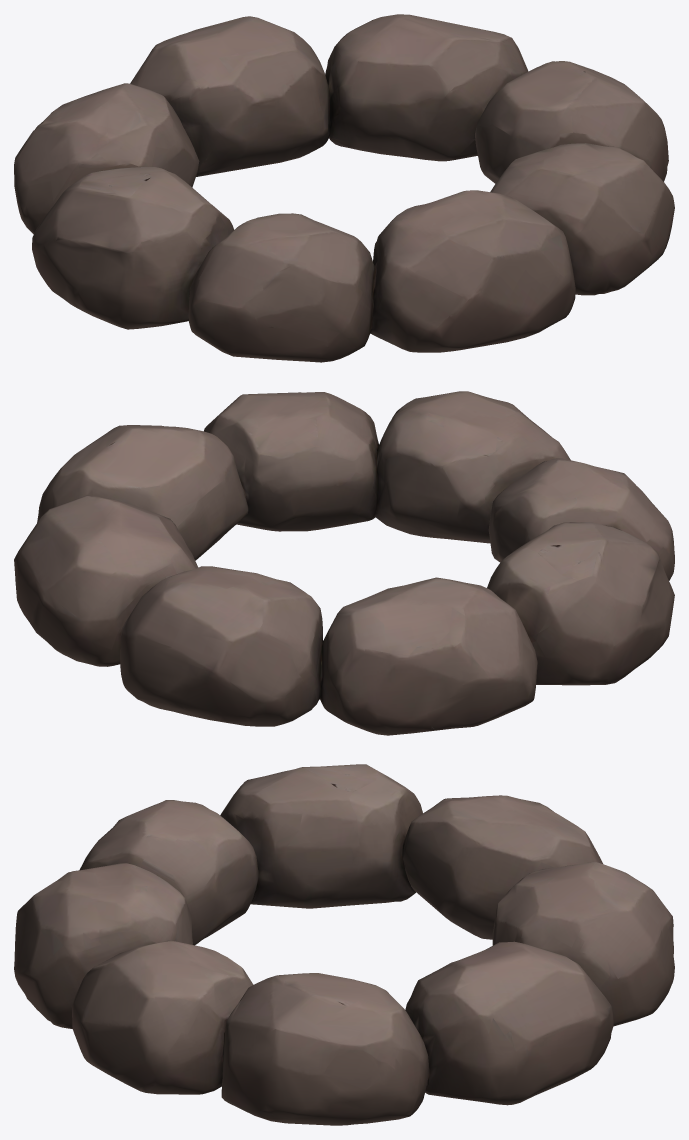
The model's file is stone_ring.glb.
3 renders of one model, top to bottom at view 1: azimuth 30°, elevation 25°; view 2: azimuth 150°, elevation 25°; view 3: azimuth 270°, elevation 25°, orthographic.
Visible parts, largest first — view 1: stone_ring; view 2: stone_ring; view 3: stone_ring.
Boxes of the visible parts, <box> form: stone_ring: <box>14,14,674,362</box>; stone_ring: <box>14,391,674,735</box>; stone_ring: <box>14,764,674,1125</box>.
Bounding box in the file's own units: 0.8602 × 0.1564 × 0.8285.
Materials: 1 (1 with a texture image).
